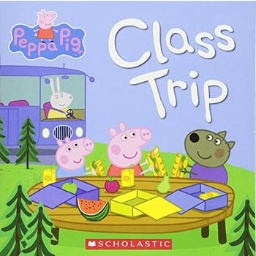Peppa: (102, 121, 156, 179)
